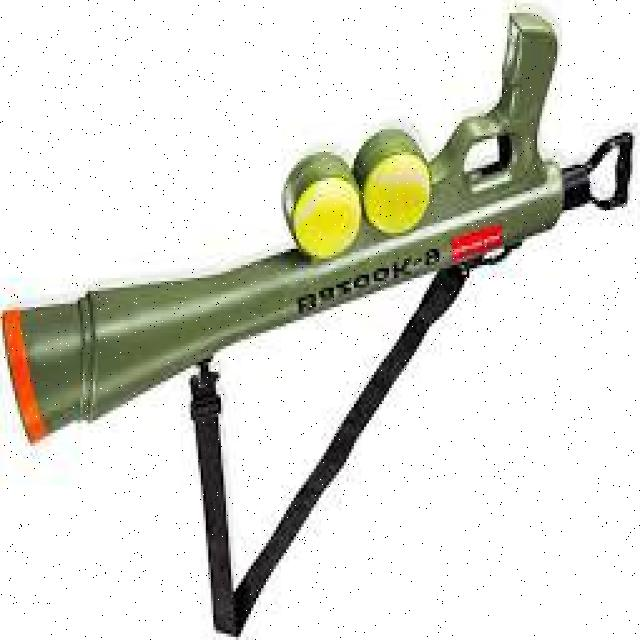bazooka: (2, 17, 626, 463)
